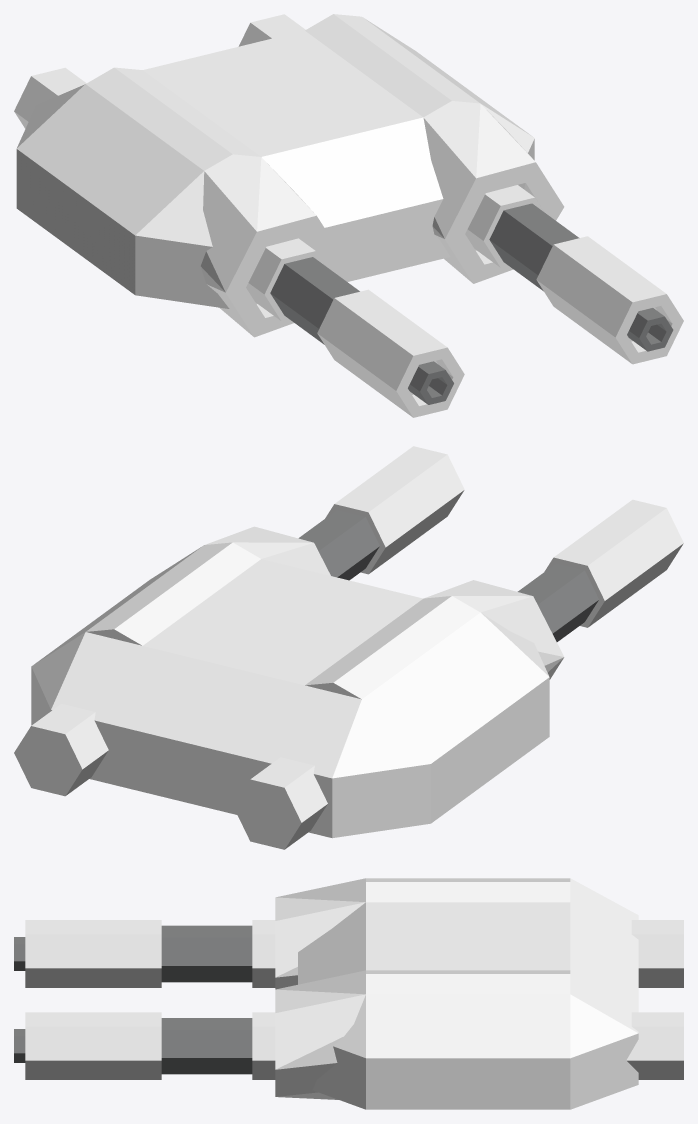
Rendered from twins.dae.
The picture shows the model from 3 angles, top to bottom: view 1: azimuth 30°, elevation 25°; view 2: azimuth 150°, elevation 25°; view 3: azimuth 270°, elevation 25°; orthographic projection. The views are drawn at different scales.
Visible parts, largest first — view 1: tube (×2), cube_selection; view 2: cube_selection, tube (×2); view 3: tube (×2), cube_selection.
Part boxes in pixels (x1=…): tube (×2): x1=14, y1=14, x2=683, y2=417; cube_selection: x1=16, y1=17, x2=534, y2=308; cube_selection: x1=31, y1=547, x2=549, y2=838; tube (×2): x1=14, y1=446, x2=683, y2=849; tube (×2): x1=14, y1=878, x2=683, y2=1099; cube_selection: x1=298, y1=878, x2=638, y2=1109.
Bounding box in the file's own units: 1.09 × 0.375 × 1.84.
1 material, 1 textured.
